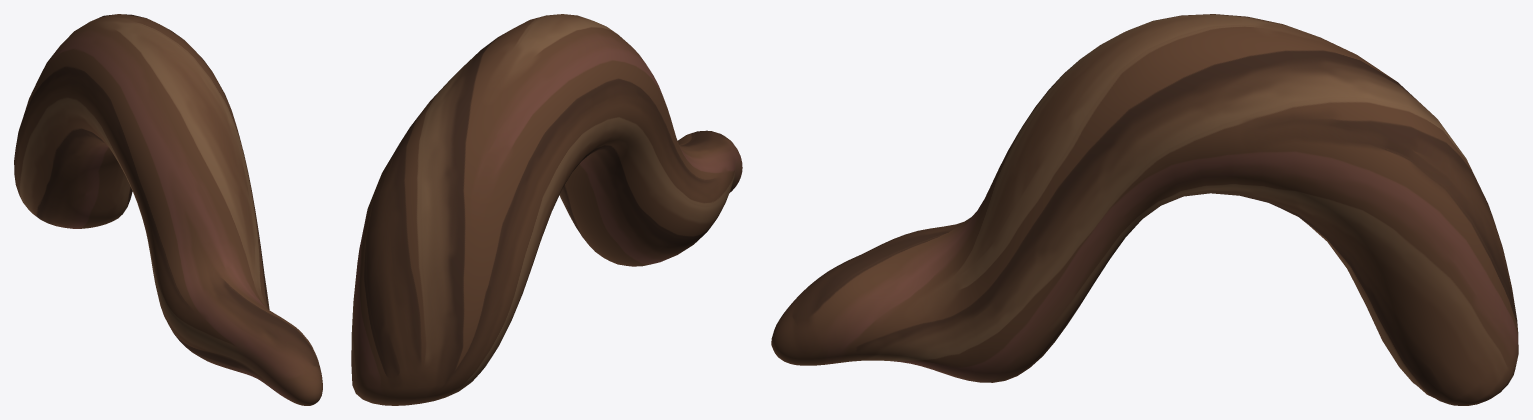
The model's file is AngelRoot2.fbx.
The picture shows the model from 3 angles, left to right: view 1: azimuth 30°, elevation 25°; view 2: azimuth 150°, elevation 25°; view 3: azimuth 270°, elevation 25°; orthographic projection. The views are drawn at different scales.
Parts seen in each view (by area): view 1: AngelRoot2; view 2: AngelRoot2; view 3: AngelRoot2.
Boxes of the visible parts, bbox=[...] form: AngelRoot2: bbox=[14, 14, 322, 405]; AngelRoot2: bbox=[351, 14, 742, 405]; AngelRoot2: bbox=[771, 14, 1518, 405].
Size of the model in its own units: 94.88 by 179 by 343.
Materials: 1 (1 with a texture image).
